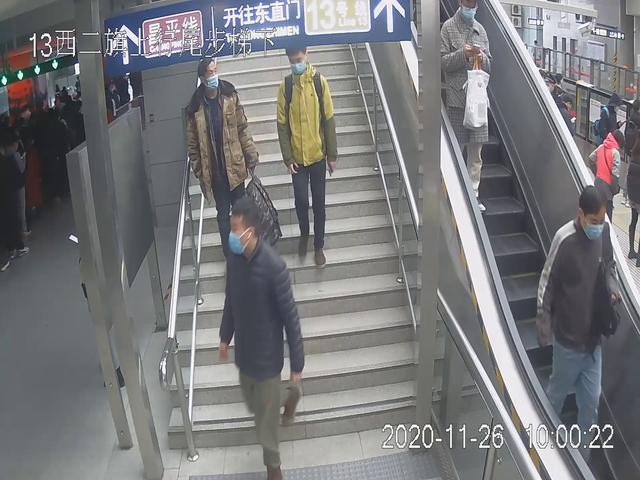person: (211, 193, 308, 480), (531, 181, 627, 466), (179, 53, 266, 279), (267, 41, 343, 270), (434, 1, 494, 216)
